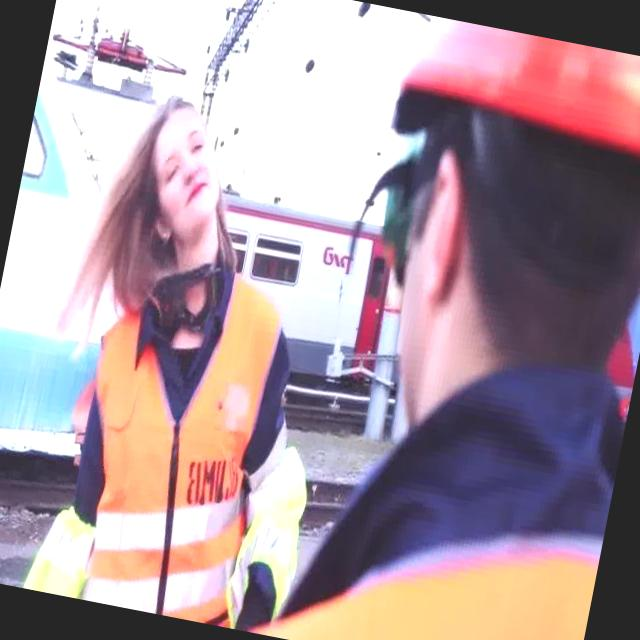helmet: (361, 8, 640, 212)
no-helmet: (86, 65, 274, 315)
vest: (50, 258, 291, 628)
